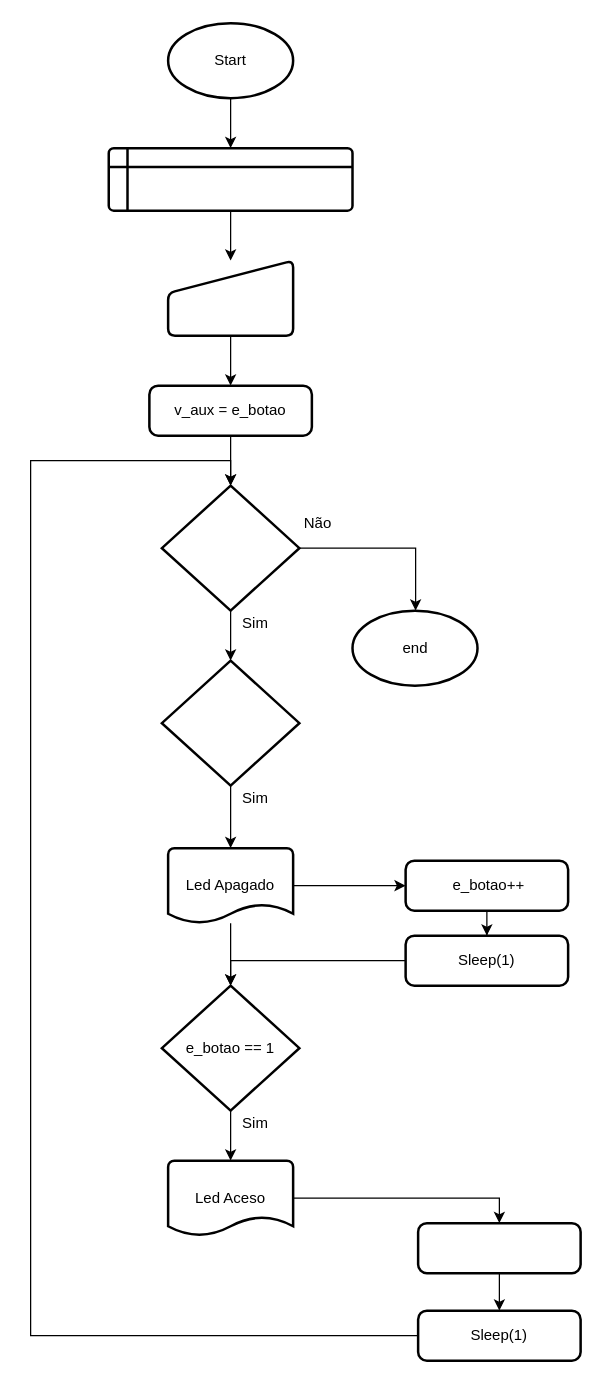
The diagram is 604 pixels wide and 1383 high, and some of its shapes have lost their labels. The centre of each missing label's shape, as x and y in pixels:
e_botao: (230,297)
e_botao == 0: (230,722)
e_botao,v_aux: (230,178)
e_botao--: (498,1247)
v_aux < 2: (230,547)
